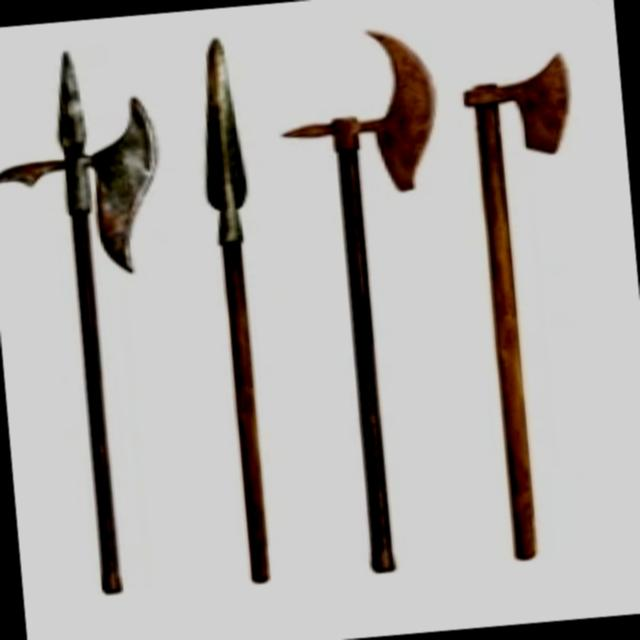spear: (268, 18, 492, 596), (0, 24, 201, 613), (446, 19, 624, 578), (184, 31, 300, 605)
